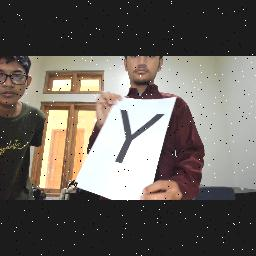y: (112, 106, 168, 168)
